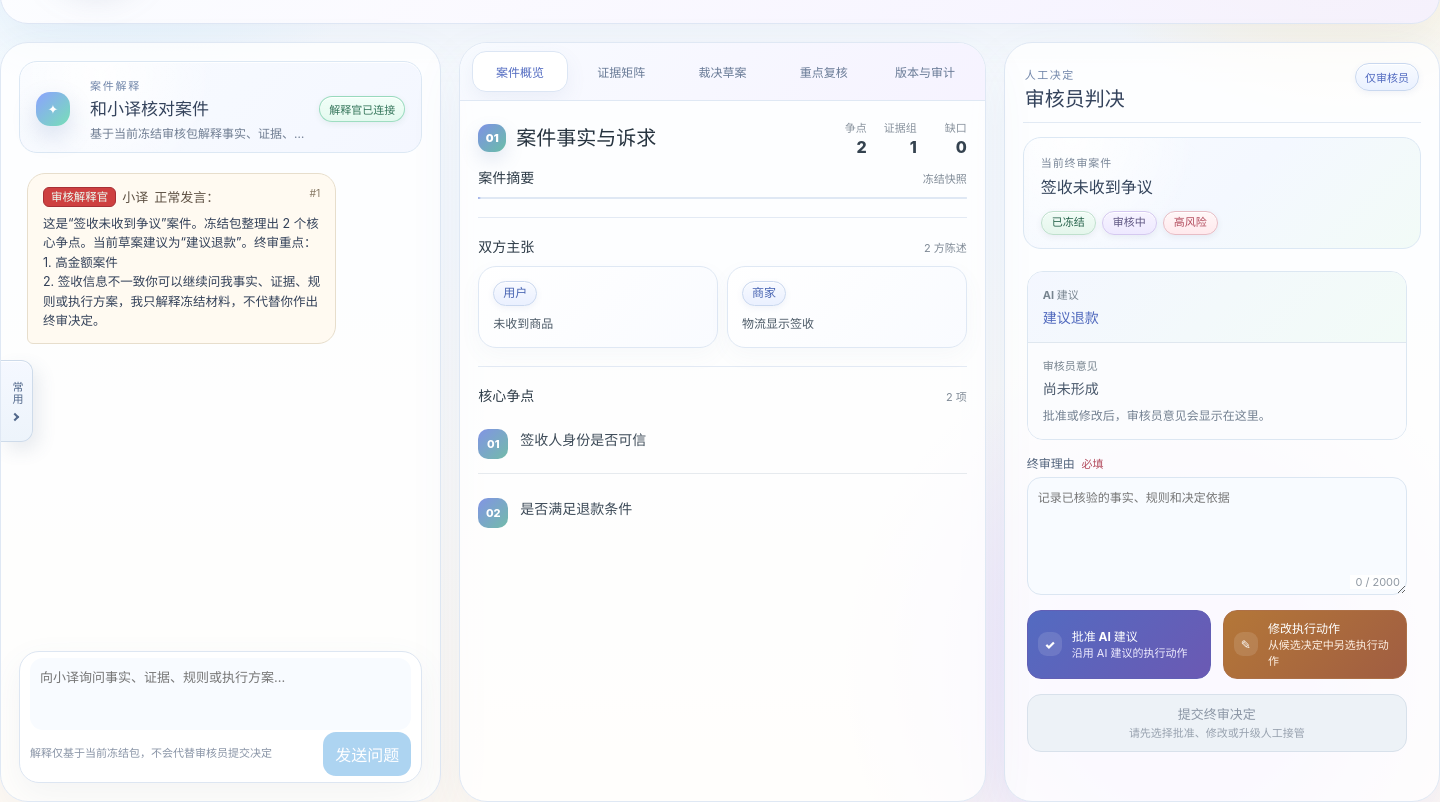
Scenario: ReviewWorkbenchView › requires a reason and explicit second confirmation before a final decision
(page scrolled)
Click the button "✓ 批准 AI 建议 沿用 AI 建议的执行动作" at (1119, 644), box [1027, 610, 1211, 679]
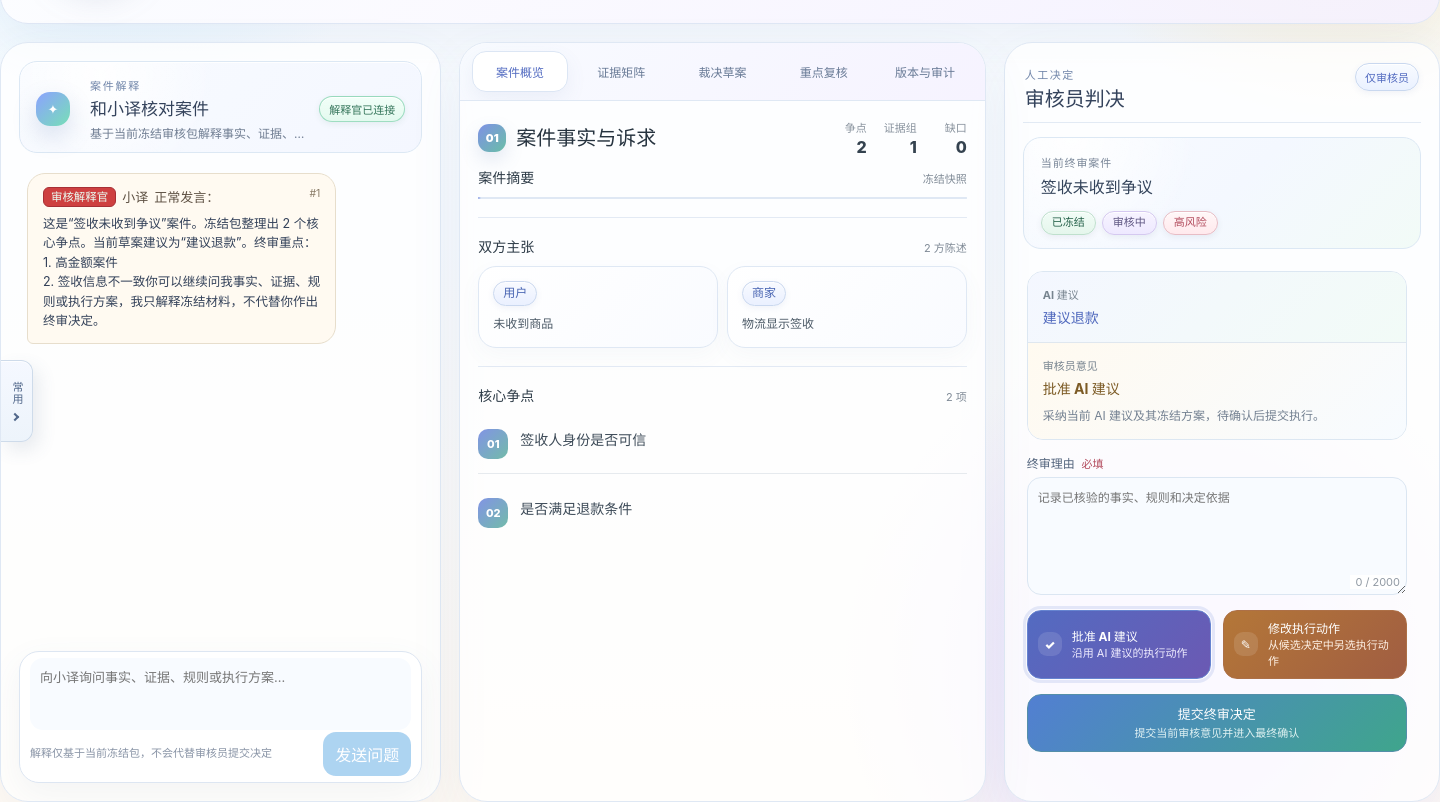
Now the text "批准 AI 建议" below "审核员意见" is shown, box [1043, 380, 1120, 397]
Click the button "提交终审决定 提交当前审核意见并进入最终确认" at (1217, 723), box [1027, 694, 1407, 752]
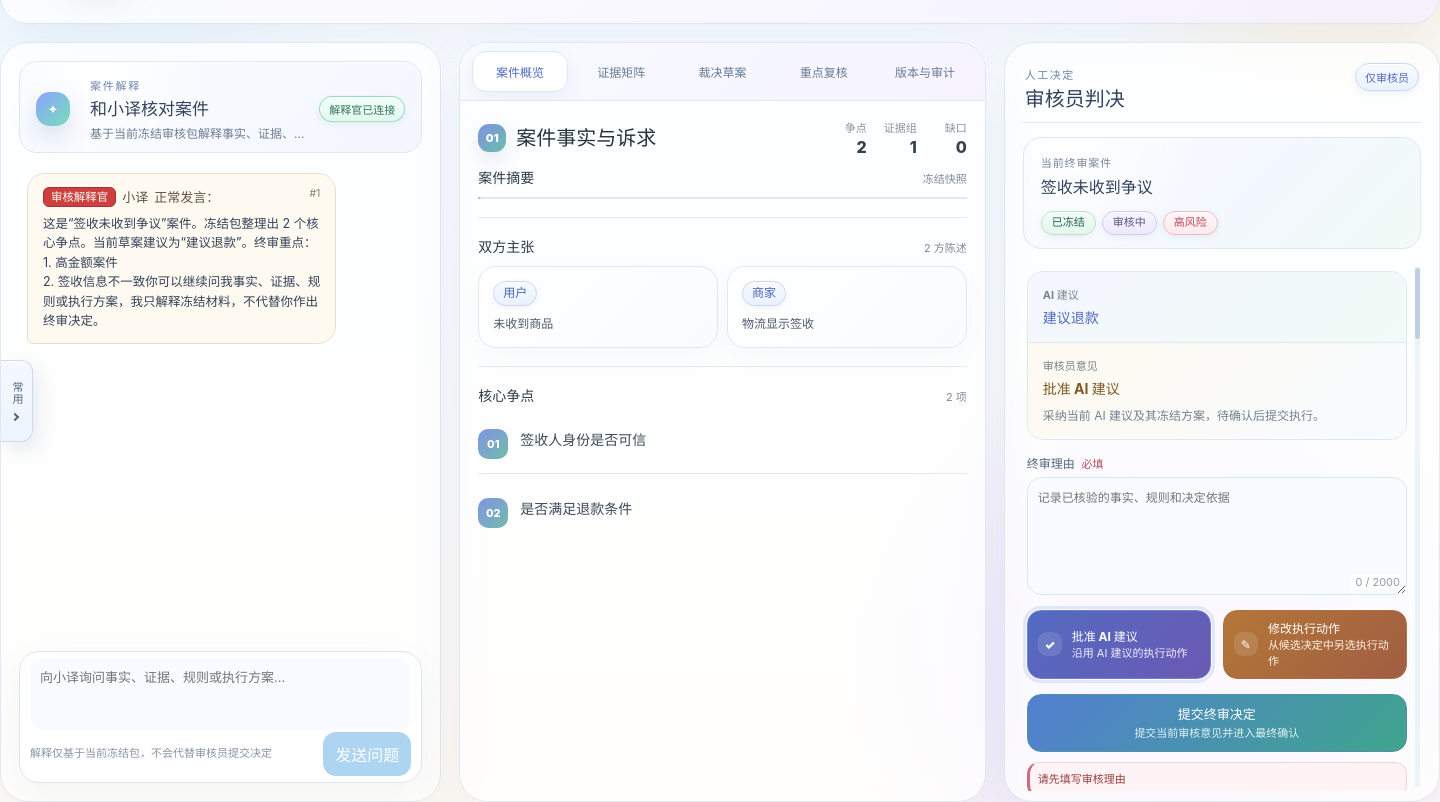
Now the text "请先填写审核理由" is shown, box [1027, 762, 1407, 791]
Type "证据链与规则适用均已核验" into the text box labelled "终审理由 必填 0 / 2000" at (1217, 536), box [1027, 477, 1407, 595]
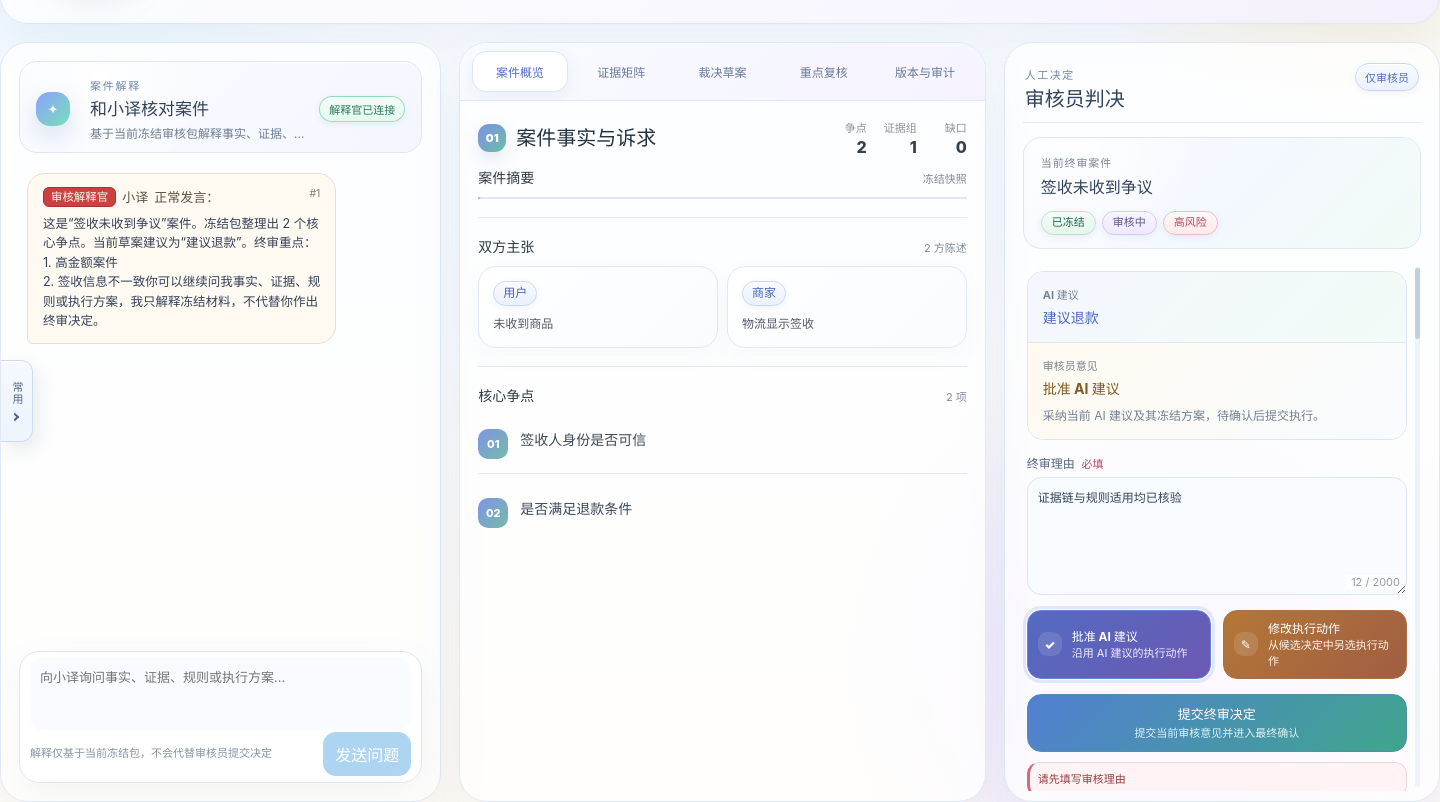
Click the button "提交终审决定 提交当前审核意见并进入最终确认" at (1217, 723), box [1027, 694, 1407, 752]
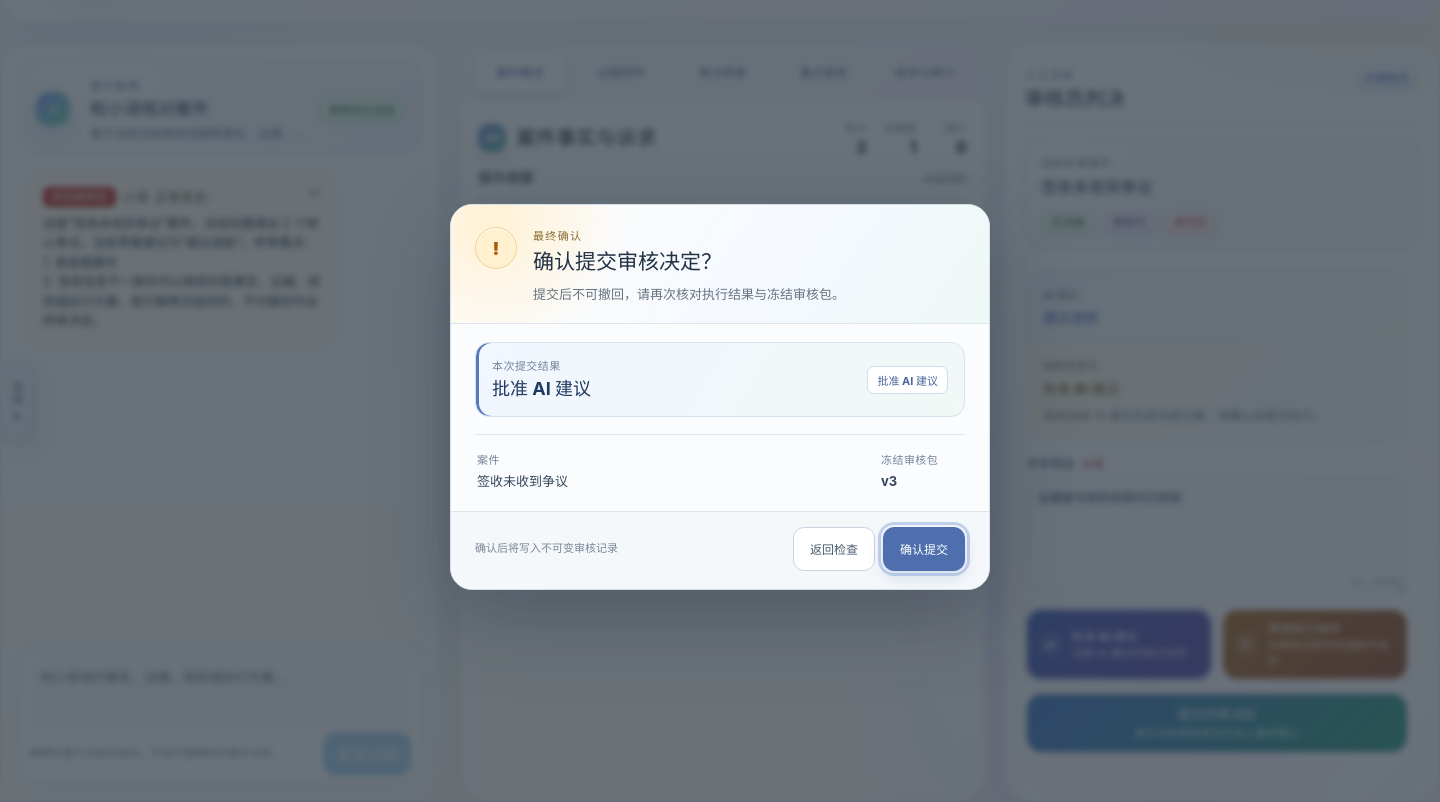
Now the text "批准 AI 建议" below "审核员意见" is shown, box [1043, 380, 1120, 397]
Now the button "确认提交" is shown
Click the button "确认提交" at (924, 549), box [883, 527, 965, 571]
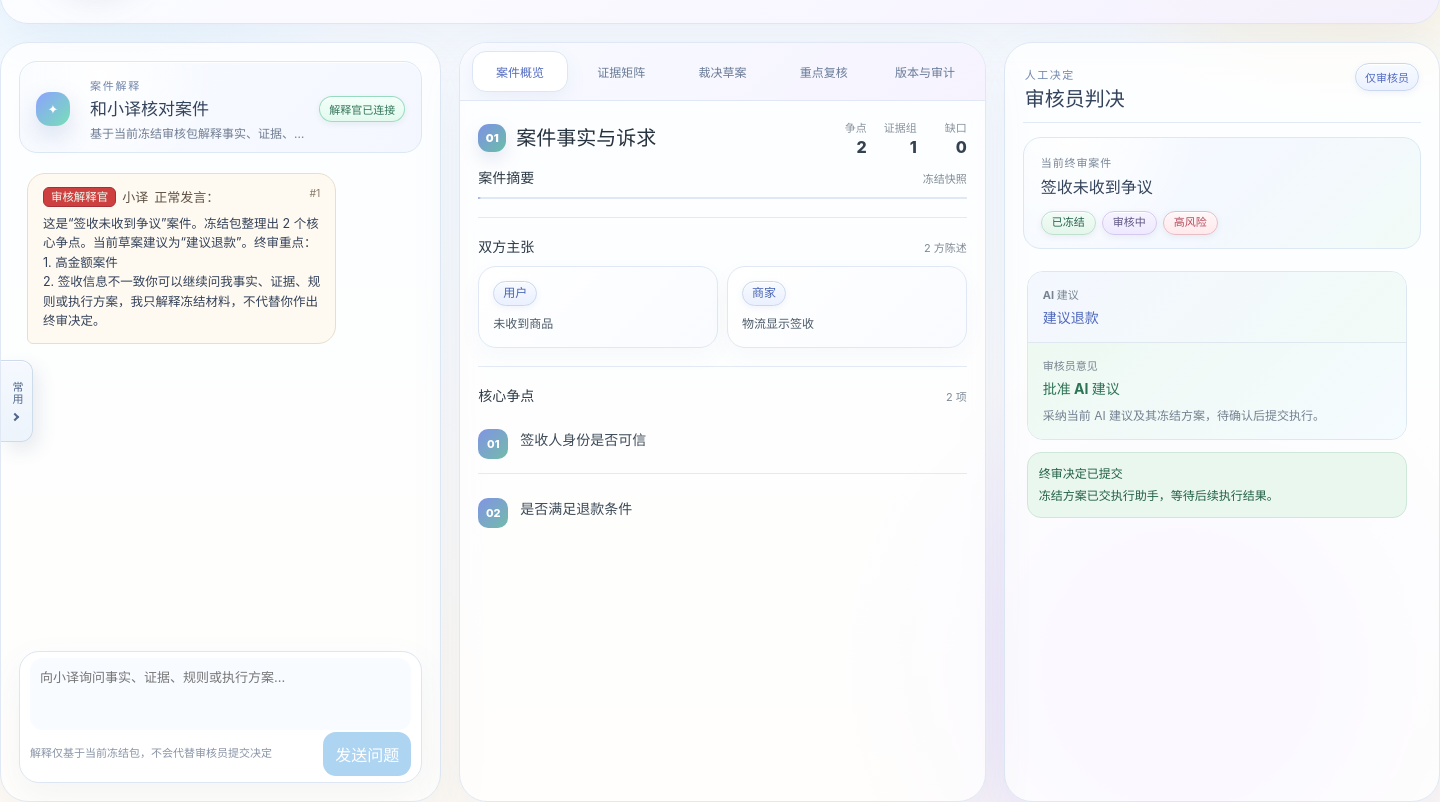
Now the text "终审决定已提交" is shown, box [1039, 466, 1123, 481]
